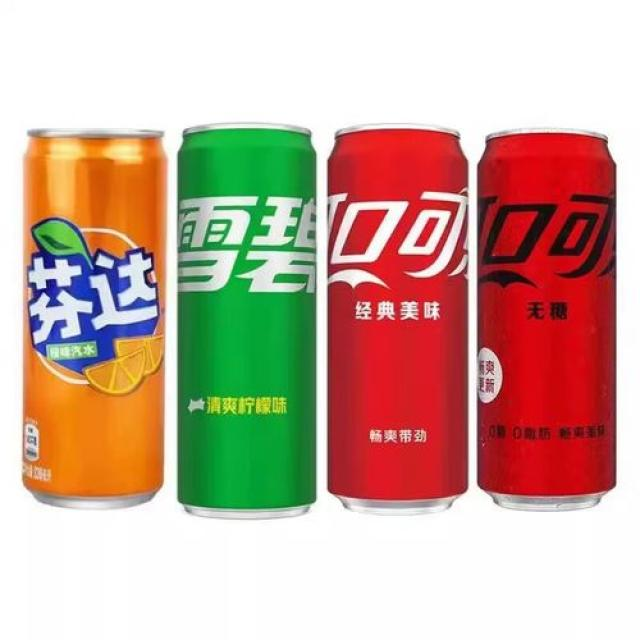can: (14, 123, 171, 515), (325, 121, 472, 520), (472, 124, 619, 516), (176, 121, 320, 521)
